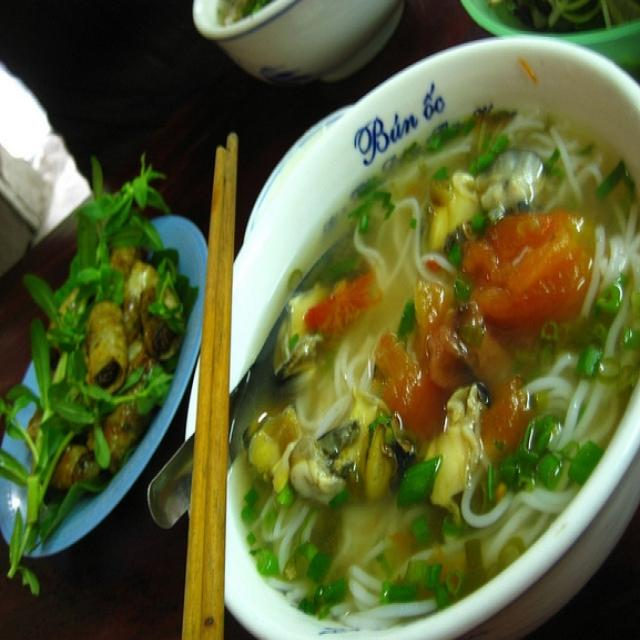面条主食: (5, 8, 629, 631)
